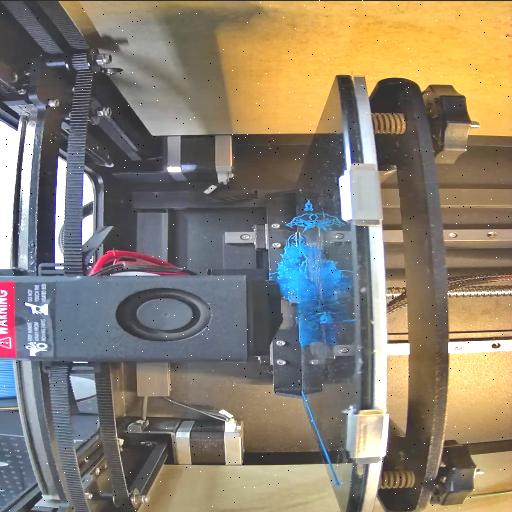spaghetti: (276, 230, 314, 296), (290, 294, 334, 330), (288, 210, 324, 228)
